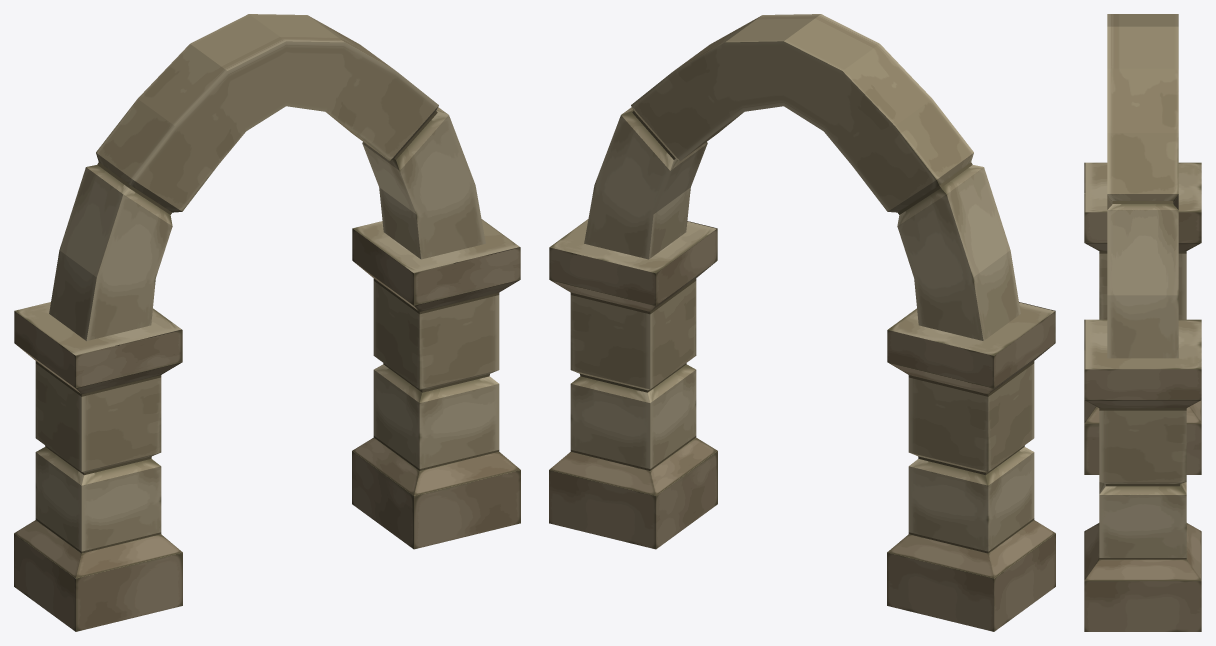
Rendered from Door_Arc.fbx.
3 renders of one model, left to right at view 1: azimuth 30°, elevation 25°; view 2: azimuth 150°, elevation 25°; view 3: azimuth 270°, elevation 25°, orthographic. The views are drawn at different scales.
Visible parts, largest first — view 1: Door_Arc; view 2: Door_Arc; view 3: Door_Arc.
Part boxes in pixels (bbox=[...]): Door_Arc: bbox=[14, 14, 520, 631]; Door_Arc: bbox=[549, 14, 1055, 631]; Door_Arc: bbox=[1084, 14, 1201, 631].
Size of the model in its own units: 558 by 631 by 134.
1 material, 1 textured.
